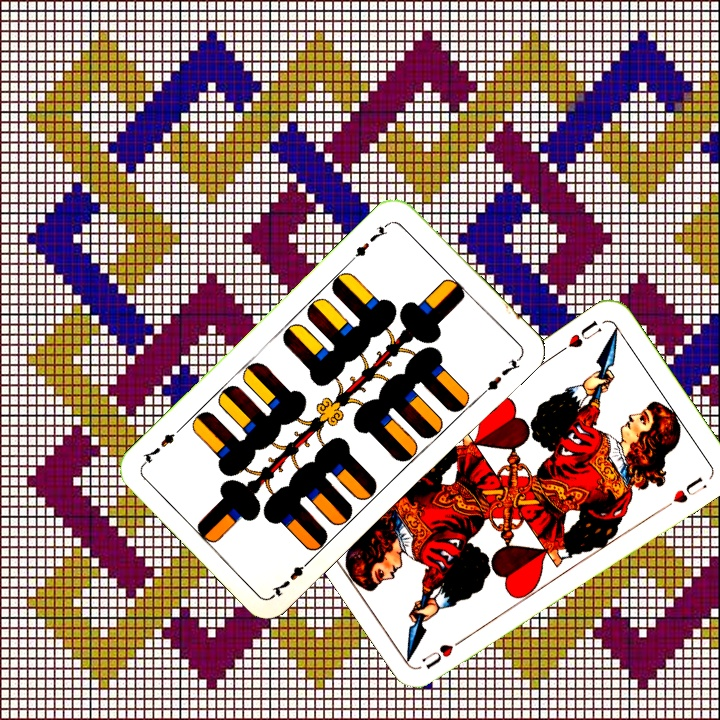E7: (346, 218, 393, 264), (268, 554, 316, 599)
HU: (418, 632, 470, 672), (555, 316, 605, 356)
